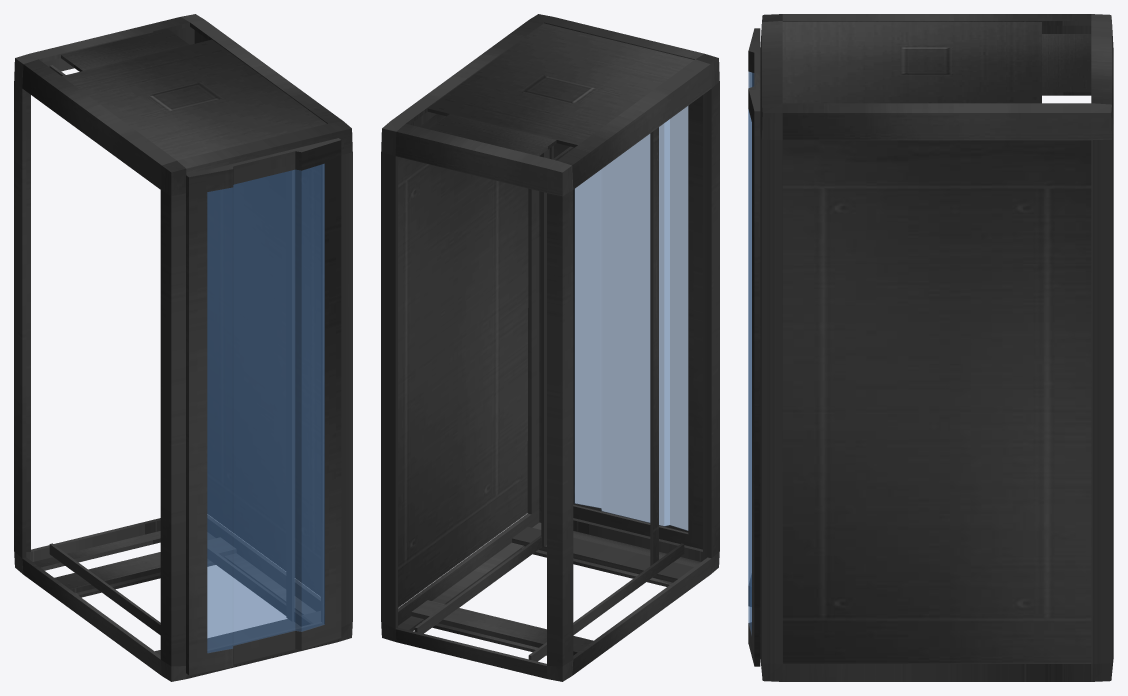
Rendered from 机柜玻璃.obj.
The picture shows the model from 3 angles, left to right: view 1: azimuth 30°, elevation 25°; view 2: azimuth 150°, elevation 25°; view 3: azimuth 270°, elevation 25°; orthographic projection. The views are drawn at different scales.
Parts seen in each view (by area): view 1: jigui, object 3, object 4, JG_qianmen; view 2: jigui, object 4, object 3, JG_qianmen; view 3: jigui, JG_qianmen, object 3, object 4.
Part boxes in pixels (left/top/right/bottom): jigui: left=14, top=14, right=352, bottom=681; object 3: left=207, top=164, right=324, bottom=652; object 4: left=208, top=164, right=323, bottom=652; JG_qianmen: left=186, top=138, right=341, bottom=675; jigui: left=381, top=14, right=719, bottom=681; object 4: left=574, top=106, right=687, bottom=530; object 3: left=575, top=106, right=687, bottom=529; JG_qianmen: left=554, top=95, right=702, bottom=549; jigui: left=760, top=14, right=1113, bottom=681; JG_qianmen: left=748, top=28, right=760, bottom=666; object 3: left=748, top=71, right=753, bottom=634; object 4: left=749, top=72, right=753, bottom=629.
Bounding box in the file's own units: 12.04 × 31.98 × 18.5.
